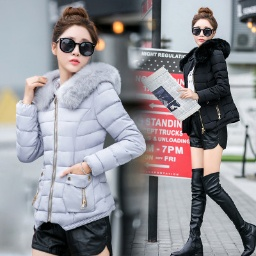face: (45, 4, 103, 80), (184, 3, 219, 50)
